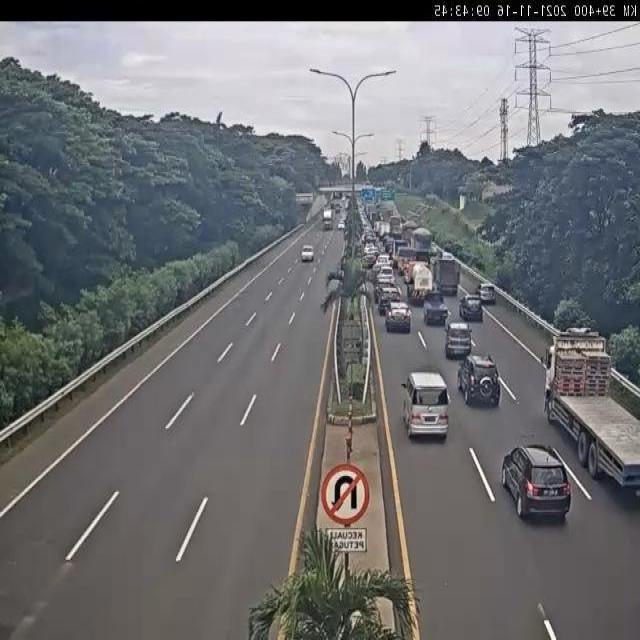Car: (502, 443, 572, 519), (400, 371, 451, 440), (458, 352, 500, 406), (445, 321, 473, 358), (385, 302, 412, 334), (423, 292, 448, 324), (459, 294, 483, 322), (377, 285, 401, 312), (478, 283, 497, 304), (300, 245, 314, 262), (338, 221, 344, 231)
Truck: (540, 333, 640, 482), (406, 260, 435, 300), (434, 258, 462, 296), (322, 209, 334, 231)
